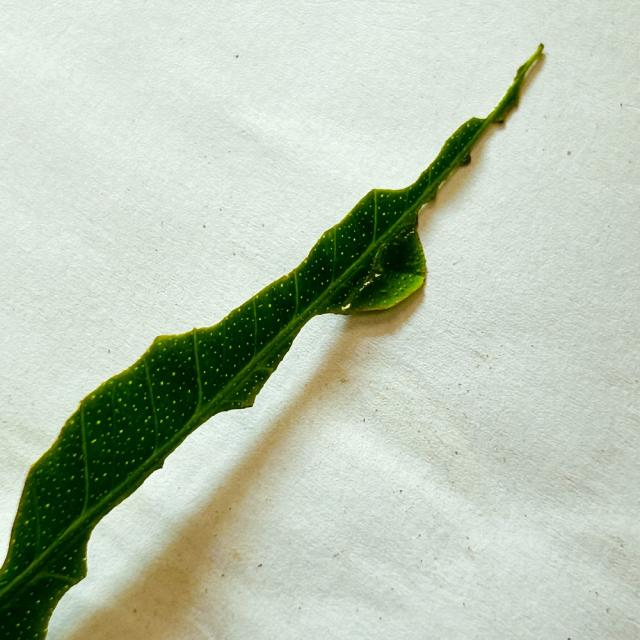Deficiency Leaf: (42, 99, 531, 637), (3, 119, 467, 557)
Lemon: (0, 45, 542, 639)
